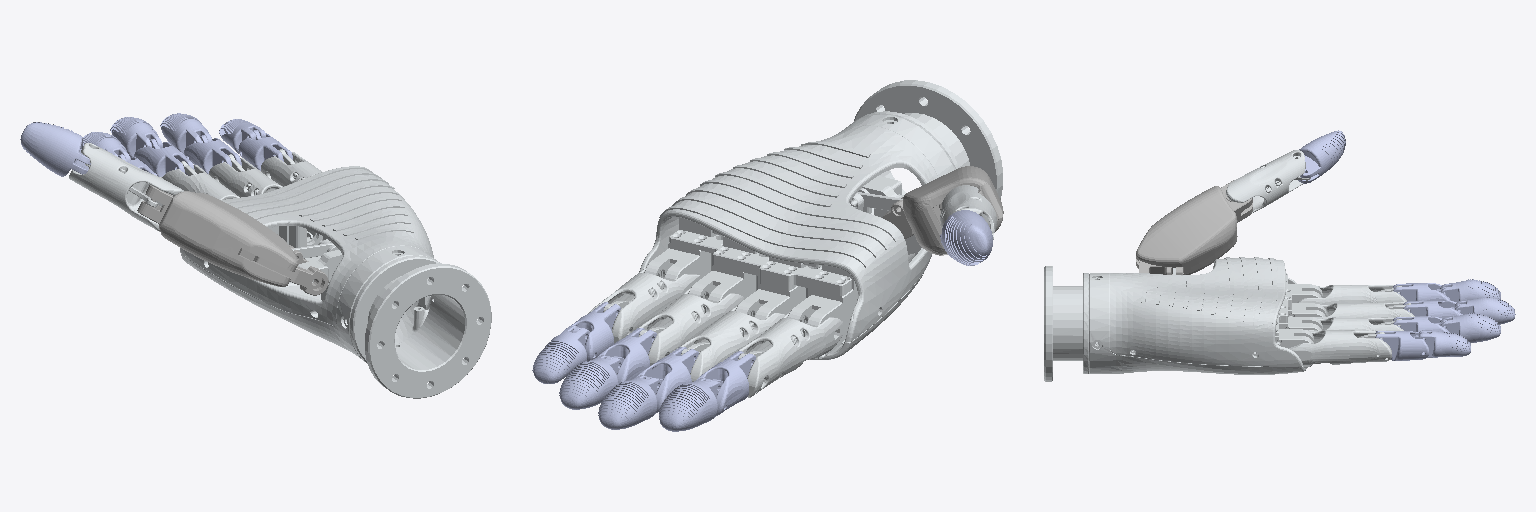
The robot description file, URDF, robot "lh_robothand_a0":
<?xml version="1.0" encoding="utf-8"?>
<!-- This URDF was automatically created by SolidWorks to URDF Exporter! Originally created by Stephen Brawner (brawner@gmail.com) 
     Commit Version: 1.6.0-4-g7f85cfe  Build Version: 1.6.7995.38578
     For more information, please see http://wiki.ros.org/sw_urdf_exporter -->
<robot
  name="lh_robothand_a0">
  <link
    name="lh_base_link">
    <inertial>
      <origin
        xyz="-0.0005326423495375 0.0772717786864033 -0.000898966132266925"
        rpy="0 0 0" />
      <mass
        value="0.262848373649471" />
      <inertia
        ixx="0.000130459702267955"
        ixy="4.38658283159813E-06"
        ixz="-6.62905537360346E-07"
        iyy="9.65532912794237E-05"
        iyz="2.75033765803907E-06"
        izz="0.000185448616754051" />
    </inertial>
    <visual>
      <origin
        xyz="0 0 0"
        rpy="0 0 0" />
      <geometry>
        <mesh
          filename="package://lh_robothand_a0_description/meshes/base_link.STL" />
      </geometry>
      <material
        name="">
        <color
          rgba="0.898039215686275 0.917647058823529 0.929411764705882 1" />
      </material>
    </visual>
    <collision>
      <origin
        xyz="0 0 0"
        rpy="0 0 0" />
      <geometry>
        <mesh
          filename="package://lh_robothand_a0_description/meshes/base_link.STL" />
      </geometry>
    </collision>
  </link>
  <link
    name="lh_LF1_Link">
    <inertial>
      <origin
        xyz="-0.000755891931996811 0.0242568044237363 0.00149883945650025"
        rpy="0 0 0" />
      <mass
        value="0.0074874409052179" />
      <inertia
        ixx="1.35659212400427E-06"
        ixy="-4.65212839765399E-10"
        ixz="7.38171085887314E-11"
        iyy="1.60505163680432E-07"
        iyz="-1.16129213018786E-08"
        izz="1.26083289748393E-06" />
    </inertial>
    <visual>
      <origin
        xyz="0 0 0"
        rpy="0 0 0" />
      <geometry>
        <mesh
          filename="package://lh_robothand_a0_description/meshes/LF1_Link.STL" />
      </geometry>
      <material
        name="">
        <color
          rgba="0.898039215686275 0.917647058823529 0.929411764705882 1" />
      </material>
    </visual>
    <collision>
      <origin
        xyz="0 0 0"
        rpy="0 0 0" />
      <geometry>
        <mesh
          filename="package://lh_robothand_a0_description/meshes/LF1_Link.STL" />
      </geometry>
    </collision>
  </link>
  <joint
    name="lh_LF1"
    type="revolute">
    <origin
      xyz="0.02722 0.12067 -0.0012197"
      rpy="0 0 0" />
    <parent
      link="lh_base_link" />
    <child
      link="lh_LF1_Link" />
    <axis
      xyz="-1 0 0" />
    <limit
      lower="-1.57"
      upper="0"
      effort="1"
      velocity="-0.5" />
    <dynamics
      damping="0.1"
      friction="0.1" />
    <mimic
      joint="lh_LF2"
      multiplier="1.8"
      offset="0" />
  </joint>
  <link
    name="lh_LF2_Link">
    <inertial>
      <origin
        xyz="-0.000844515150359219 0.0117739441187939 0.0022679198803186"
        rpy="0 0 0" />
      <mass
        value="0.0020406717952195" />
      <inertia
        ixx="1.17780368975088E-07"
        ixy="-1.62568514619483E-10"
        ixz="-6.56414673959214E-12"
        iyy="5.24770124374262E-08"
        iyz="-1.50021567083424E-09"
        izz="1.21248902970585E-07" />
    </inertial>
    <visual>
      <origin
        xyz="0 0 0"
        rpy="0 0 0" />
      <geometry>
        <mesh
          filename="package://lh_robothand_a0_description/meshes/LF2_Link.STL" />
      </geometry>
      <material
        name="">
        <color
          rgba="0.796078431372549 0.823529411764706 0.937254901960784 1" />
      </material>
    </visual>
    <collision>
      <origin
        xyz="0 0 0"
        rpy="0 0 0" />
      <geometry>
        <mesh
          filename="package://lh_robothand_a0_description/meshes/LF2_Link.STL" />
      </geometry>
    </collision>
  </link>
  <joint
    name="lh_LF2"
    type="revolute">
    <origin
      xyz="0 0.040097 -0.00037218"
      rpy="0 0 0" />
    <parent
      link="lh_LF1_Link" />
    <child
      link="lh_LF2_Link" />
    <axis
      xyz="-1 0 0" />
    <limit
      lower="-1.57"
      upper="0"
      effort="1"
      velocity="-0.5" />
    <dynamics
      damping="0.1"
      friction="0.1" />
    <mimic
      joint="lh_LF3"
      multiplier="1.8"
      offset="0" />
  </joint>
  <link
    name="lh_LF3_Link">
    <inertial>
      <origin
        xyz="-0.000895410151615577 0.0102874431755886 0.00155427545488495"
        rpy="0 0 0" />
      <mass
        value="0.0024374814930342" />
      <inertia
        ixx="7.38921004801917E-08"
        ixy="1.49725783063222E-10"
        ixz="-4.15130471258454E-11"
        iyy="4.10621116300406E-08"
        iyz="1.55102171166972E-08"
        izz="7.50783856519446E-08" />
    </inertial>
    <visual>
      <origin
        xyz="0 0 0"
        rpy="0 0 0" />
      <geometry>
        <mesh
          filename="package://lh_robothand_a0_description/meshes/LF3_Link.STL" />
      </geometry>
      <material
        name="">
        <color
          rgba="0.796078431372549 0.823529411764706 0.937254901960784 1" />
      </material>
    </visual>
    <collision>
      <origin
        xyz="0 0 0"
        rpy="0 0 0" />
      <geometry>
        <mesh
          filename="package://lh_robothand_a0_description/meshes/LF3_Link.STL" />
      </geometry>
    </collision>
  </link>
  <joint
    name="lh_LF3"
    type="revolute">
    <origin
      xyz="0 0.02198 0.00094344"
      rpy="0 0 0" />
    <parent
      link="lh_LF2_Link" />
    <child
      link="lh_LF3_Link" />
    <axis
      xyz="-1 0 0" />
    <limit
      lower="-1"
      upper="0"
      effort="1"
      velocity="-0.5" />
    <dynamics
      damping="0.1"
      friction="0.1" />
  </joint>
  <link
    name="lh_RF1_Link">
    <inertial>
      <origin
        xyz="-0.00104069618489598 0.0261110997390666 0.00194999113122413"
        rpy="0 0 0" />
      <mass
        value="0.0083300368382922" />
      <inertia
        ixx="1.86735417982367E-06"
        ixy="-8.99284385104697E-10"
        ixz="8.91971575249666E-11"
        iyy="1.62745378640412E-07"
        iyz="-1.94691117945355E-08"
        izz="1.77324944931858E-06" />
    </inertial>
    <visual>
      <origin
        xyz="0 0 0"
        rpy="0 0 0" />
      <geometry>
        <mesh
          filename="package://lh_robothand_a0_description/meshes/RF1_Link.STL" />
      </geometry>
      <material
        name="">
        <color
          rgba="0.898039215686275 0.917647058823529 0.929411764705882 1" />
      </material>
    </visual>
    <collision>
      <origin
        xyz="0 0 0"
        rpy="0 0 0" />
      <geometry>
        <mesh
          filename="package://lh_robothand_a0_description/meshes/RF1_Link.STL" />
      </geometry>
    </collision>
  </link>
  <joint
    name="lh_RF1"
    type="revolute">
    <origin
      xyz="0.0090199 0.12467 -0.0032197"
      rpy="0 0 0" />
    <parent
      link="lh_base_link" />
    <child
      link="lh_RF1_Link" />
    <axis
      xyz="-1 0 0" />
    <limit
      lower="-1.57"
      upper="0"
      effort="1"
      velocity="-0.5" />
    <dynamics
      damping="0.1"
      friction="0.1" />
    <mimic
      joint="lh_RF2"
      multiplier="1.8"
      offset="0" />
  </joint>
  <link
    name="lh_RF2_Link">
    <inertial>
      <origin
        xyz="-0.00119704829718612 0.0126321497239338 0.00261158687244465"
        rpy="0 0 0" />
      <mass
        value="0.00216268864685091" />
      <inertia
        ixx="1.41711926150424E-07"
        ixy="-1.51182028249349E-10"
        ixz="1.16937908138144E-11"
        iyy="5.52598873102467E-08"
        iyz="-1.51138258504334E-09"
        izz="1.46910093656898E-07" />
    </inertial>
    <visual>
      <origin
        xyz="0 0 0"
        rpy="0 0 0" />
      <geometry>
        <mesh
          filename="package://lh_robothand_a0_description/meshes/RF2_Link.STL" />
      </geometry>
      <material
        name="">
        <color
          rgba="0.796078431372549 0.823529411764706 0.937254901960784 1" />
      </material>
    </visual>
    <collision>
      <origin
        xyz="0 0 0"
        rpy="0 0 0" />
      <geometry>
        <mesh
          filename="package://lh_robothand_a0_description/meshes/RF2_Link.STL" />
      </geometry>
    </collision>
  </link>
  <joint
    name="lh_RF2"
    type="revolute">
    <origin
      xyz="0.0002 0.0445 0.00020578"
      rpy="0 0 0" />
    <parent
      link="lh_RF1_Link" />
    <child
      link="lh_RF2_Link" />
    <axis
      xyz="-1 0 0" />
    <limit
      lower="-1.57"
      upper="0"
      effort="1"
      velocity="-0.5" />
    <dynamics
      damping="0.1"
      friction="0.1" />
    <mimic
      joint="lh_RF3"
      multiplier="1.8"
      offset="0" />
  </joint>
  <link
    name="lh_RF3_Link">
    <inertial>
      <origin
        xyz="-0.00119370596150321 0.0122054724231012 0.00355817968514922"
        rpy="0 0 0" />
      <mass
        value="0.00336561552955153" />
      <inertia
        ixx="1.25559248030388E-07"
        ixy="5.22357622270556E-11"
        ixz="-2.92570308975789E-11"
        iyy="6.16777154701083E-08"
        iyz="1.74296137561546E-08"
        izz="1.34405881345937E-07" />
    </inertial>
    <visual>
      <origin
        xyz="0 0 0"
        rpy="0 0 0" />
      <geometry>
        <mesh
          filename="package://lh_robothand_a0_description/meshes/RF3_Link.STL" />
      </geometry>
      <material
        name="">
        <color
          rgba="0.796078431372549 0.823529411764706 0.937254901960784 1" />
      </material>
    </visual>
    <collision>
      <origin
        xyz="0 0 0"
        rpy="0 0 0" />
      <geometry>
        <mesh
          filename="package://lh_robothand_a0_description/meshes/RF3_Link.STL" />
      </geometry>
    </collision>
  </link>
  <joint
    name="lh_RF3"
    type="revolute">
    <origin
      xyz="0 0.024497 0.00039909"
      rpy="0 0 0" />
    <parent
      link="lh_RF2_Link" />
    <child
      link="lh_RF3_Link" />
    <axis
      xyz="-1 0 0" />
    <limit
      lower="-1"
      upper="0"
      effort="1"
      velocity="-0.5" />
    <dynamics
      damping="0.1"
      friction="0.1" />
  </joint>
  <link
    name="lh_MF1_Link">
    <inertial>
      <origin
        xyz="-0.00103409605479259 0.0276393847117343 0.00252652933854141"
        rpy="0 0 0" />
      <mass
        value="0.0097069421206806" />
      <inertia
        ixx="2.35328907941077E-06"
        ixy="-1.1153108835082E-09"
        ixz="-5.24844132673409E-11"
        iyy="2.03043476464388E-07"
        iyz="-6.87987313977919E-08"
        izz="2.23086466393879E-06" />
    </inertial>
    <visual>
      <origin
        xyz="0 0 0"
        rpy="0 0 0" />
      <geometry>
        <mesh
          filename="package://lh_robothand_a0_description/meshes/MF1_Link.STL" />
      </geometry>
      <material
        name="">
        <color
          rgba="0.898039215686275 0.917647058823529 0.929411764705882 1" />
      </material>
    </visual>
    <collision>
      <origin
        xyz="0 0 0"
        rpy="0 0 0" />
      <geometry>
        <mesh
          filename="package://lh_robothand_a0_description/meshes/MF1_Link.STL" />
      </geometry>
    </collision>
  </link>
  <joint
    name="lh_MF1"
    type="revolute">
    <origin
      xyz="-0.0094801 0.12667 -0.0047197"
      rpy="0 0 0" />
    <parent
      link="lh_base_link" />
    <child
      link="lh_MF1_Link" />
    <axis
      xyz="-1 0 0" />
    <limit
      lower="-1.57"
      upper="0"
      effort="1"
      velocity="-0.5" />
    <dynamics
      damping="0.1"
      friction="0.1" />
    <mimic
      joint="lh_MF2"
      multiplier="1.8"
      offset="0" />
  </joint>
  <link
    name="lh_MF2_Link">
    <inertial>
      <origin
        xyz="-0.00103269636547934 0.013490144319442 0.0028976553081372"
        rpy="0 0 0" />
      <mass
        value="0.00228824509732534" />
      <inertia
        ixx="1.7050913980067E-07"
        ixy="-1.56264344067894E-10"
        ixz="-2.22921136326968E-11"
        iyy="5.95577145416408E-08"
        iyz="-4.42554833000743E-09"
        izz="1.78155599264701E-07" />
    </inertial>
    <visual>
      <origin
        xyz="0 0 0"
        rpy="0 0 0" />
      <geometry>
        <mesh
          filename="package://lh_robothand_a0_description/meshes/MF2_Link.STL" />
      </geometry>
      <material
        name="">
        <color
          rgba="0.796078431372549 0.823529411764706 0.937254901960784 1" />
      </material>
    </visual>
    <collision>
      <origin
        xyz="0 0 0"
        rpy="0 0 0" />
      <geometry>
        <mesh
          filename="package://lh_robothand_a0_description/meshes/MF2_Link.STL" />
      </geometry>
    </collision>
  </link>
  <joint
    name="lh_MF2"
    type="revolute">
    <origin
      xyz="0 0.047487 0.0011335"
      rpy="0 0 0" />
    <parent
      link="lh_MF1_Link" />
    <child
      link="lh_MF2_Link" />
    <axis
      xyz="-1 0 0" />
    <limit
      lower="-1.57"
      upper="0"
      effort="1"
      velocity="-0.5" />
    <dynamics
      damping="0.1"
      friction="0.1" />
    <mimic
      joint="lh_MF3"
      multiplier="1.8"
      offset="0" />
  </joint>
  <link
    name="lh_MF3_Link">
    <inertial>
      <origin
        xyz="-0.00109373548759277 0.0122123250633884 0.0035339262295747"
        rpy="0 0 0" />
      <mass
        value="0.00336556031844797" />
      <inertia
        ixx="1.25555487633584E-07"
        ixy="5.24058611297316E-11"
        ixz="-2.89495483920673E-11"
        iyy="6.17473787558547E-08"
        iyz="1.7573287946942E-08"
        izz="1.34335338467939E-07" />
    </inertial>
    <visual>
      <origin
        xyz="0 0 0"
        rpy="0 0 0" />
      <geometry>
        <mesh
          filename="package://lh_robothand_a0_description/meshes/MF3_Link.STL" />
      </geometry>
      <material
        name="">
        <color
          rgba="0.796078431372549 0.823529411764706 0.937254901960784 1" />
      </material>
    </visual>
    <collision>
      <origin
        xyz="0 0 0"
        rpy="0 0 0" />
      <geometry>
        <mesh
          filename="package://lh_robothand_a0_description/meshes/MF3_Link.STL" />
      </geometry>
    </collision>
  </link>
  <joint
    name="lh_MF3"
    type="revolute">
    <origin
      xyz="0 0.026482 0.00098138"
      rpy="0 0 0" />
    <parent
      link="lh_MF2_Link" />
    <child
      link="lh_MF3_Link" />
    <axis
      xyz="-1 0 0" />
    <limit
      lower="-1"
      upper="0"
      effort="1"
      velocity="-0.5" />
    <dynamics
      damping="0.1"
      friction="0.1" />
  </joint>
  <link
    name="lh_FF1_Link">
    <inertial>
      <origin
        xyz="-0.00104070068063387 0.0260984041341586 0.00208802564535935"
        rpy="0 0 0" />
      <mass
        value="0.00833003074086424" />
      <inertia
        ixx="1.86735423879991E-06"
        ixy="-8.99750519087512E-10"
        ixz="8.43248988996383E-11"
        iyy="1.63055145455469E-07"
        iyz="-2.8096330181437E-08"
        izz="1.77293980832037E-06" />
    </inertial>
    <visual>
      <origin
        xyz="0 0 0"
        rpy="0 0 0" />
      <geometry>
        <mesh
          filename="package://lh_robothand_a0_description/meshes/FF1_Link.STL" />
      </geometry>
      <material
        name="">
        <color
          rgba="0.898039215686275 0.917647058823529 0.929411764705882 1" />
      </material>
    </visual>
    <collision>
      <origin
        xyz="0 0 0"
        rpy="0 0 0" />
      <geometry>
        <mesh
          filename="package://lh_robothand_a0_description/meshes/FF1_Link.STL" />
      </geometry>
    </collision>
  </link>
  <joint
    name="lh_FF1"
    type="revolute">
    <origin
      xyz="-0.02808 0.12467 -0.0032197"
      rpy="0 0 0" />
    <parent
      link="lh_base_link" />
    <child
      link="lh_FF1_Link" />
    <axis
      xyz="-1 0 0" />
    <limit
      lower="-1.57"
      upper="0"
      effort="1"
      velocity="-0.5" />
    <dynamics
      damping="0.1"
      friction="0.1" />
    <mimic
      joint="lh_FF2"
      multiplier="1.8"
      offset="0" />
  </joint>
  <link
    name="lh_FF2_Link">
    <inertial>
      <origin
        xyz="-0.00119704889849115 0.0126024560602183 0.0027410938324317"
        rpy="0 0 0" />
      <mass
        value="0.00216268861976196" />
      <inertia
        ixx="1.41711912861347E-07"
        ixy="-1.51284528273074E-10"
        ixz="1.01075984664546E-11"
        iyy="5.53138478506454E-08"
        iyz="-2.47277102938112E-09"
        izz="1.46856120478191E-07" />
    </inertial>
    <visual>
      <origin
        xyz="0 0 0"
        rpy="0 0 0" />
      <geometry>
        <mesh
          filename="package://lh_robothand_a0_description/meshes/FF2_Link.STL" />
      </geometry>
      <material
        name="">
        <color
          rgba="0.796078431372549 0.823529411764706 0.937254901960784 1" />
      </material>
    </visual>
    <collision>
      <origin
        xyz="0 0 0"
        rpy="0 0 0" />
      <geometry>
        <mesh
          filename="package://lh_robothand_a0_description/meshes/FF2_Link.STL" />
      </geometry>
    </collision>
  </link>
  <joint
    name="lh_FF2"
    type="revolute">
    <origin
      xyz="0.0002 0.044498 0.00044206"
      rpy="0 0 0" />
    <parent
      link="lh_FF1_Link" />
    <child
      link="lh_FF2_Link" />
    <axis
      xyz="-1 0 0" />
    <limit
      lower="-1.57"
      upper="0"
      effort="1"
      velocity="-0.5" />
    <dynamics
      damping="0.1"
      friction="0.1" />
    <mimic
      joint="lh_FF3"
      multiplier="1.8"
      offset="0" />
  </joint>
  <link
    name="lh_FF3_Link">
    <inertial>
      <origin
        xyz="-0.00119677791994263 0.0121617673254443 0.00370928642272381"
        rpy="0 0 0" />
      <mass
        value="0.00337032712997865" />
      <inertia
        ixx="1.25145238174883E-07"
        ixy="4.33600409634468E-11"
        ixz="-5.31106934522797E-11"
        iyy="6.15688525220647E-08"
        iyz="1.6346381812885E-08"
        izz="1.35642578425083E-07" />
    </inertial>
    <visual>
      <origin
        xyz="0 0 0"
        rpy="0 0 0" />
      <geometry>
        <mesh
          filename="package://lh_robothand_a0_description/meshes/FF3_Link.STL" />
      </geometry>
      <material
        name="">
        <color
          rgba="0.796078431372549 0.823529411764706 0.937254901960784 1" />
      </material>
    </visual>
    <collision>
      <origin
        xyz="0 0 0"
        rpy="0 0 0" />
      <geometry>
        <mesh
          filename="package://lh_robothand_a0_description/meshes/FF3_Link.STL" />
      </geometry>
    </collision>
  </link>
  <joint
    name="lh_FF3"
    type="revolute">
    <origin
      xyz="0 0.024491 0.00065357"
      rpy="0 0 0" />
    <parent
      link="lh_FF2_Link" />
    <child
      link="lh_FF3_Link" />
    <axis
      xyz="-1 0 0" />
    <limit
      lower="-1"
      upper="0"
      effort="1"
      velocity="-0.5" />
    <dynamics
      damping="0.1"
      friction="0.1" />
  </joint>
  <link
    name="lh_TH1_Link">
    <inertial>
      <origin
        xyz="0.0126010834927772 0.0270415002472552 0.0157351570711252"
        rpy="0 0 0" />
      <mass
        value="0.0376965566076027" />
      <inertia
        ixx="2.99126716126074E-06"
        ixy="-6.52954680161949E-07"
        ixz="-4.43418989487351E-07"
        iyy="3.70766297941824E-06"
        iyz="-1.05012625203573E-06"
        izz="4.80087959123137E-06" />
    </inertial>
    <visual>
      <origin
        xyz="0 0 0"
        rpy="0 0 0" />
      <geometry>
        <mesh
          filename="package://lh_robothand_a0_description/meshes/TH1_Link.STL" />
      </geometry>
      <material
        name="">
        <color
          rgba="0.752941176470588 0.752941176470588 0.752941176470588 1" />
      </material>
    </visual>
    <collision>
      <origin
        xyz="0 0 0"
        rpy="0 0 0" />
      <geometry>
        <mesh
          filename="package://lh_robothand_a0_description/meshes/TH1_Link.STL" />
      </geometry>
    </collision>
  </link>
  <joint
    name="lh_TH1"
    type="revolute">
    <origin
      xyz="-0.024843 0.061673 0.0085578"
      rpy="0 0 1.5708" />
    <parent
      link="lh_base_link" />
    <child
      link="lh_TH1_Link" />
    <axis
      xyz="-1 0 0" />
    <limit
      lower="0"
      upper="1"
      effort="1"
      velocity="0.5" />
    <dynamics
      damping="0.1"
      friction="0.1" />
    <mimic
      joint="lh_TH2"
      multiplier="-1.8"
      offset="0" />
  </joint>
  <link
    name="lh_TH2_Link">
    <inertial>
      <origin
        xyz="-0.000751465383598712 0.0187130036119364 0.0118895562526252"
        rpy="0 0 0" />
      <mass
        value="0.00973663443524222" />
      <inertia
        ixx="1.44806919545669E-06"
        ixy="1.00623347985229E-09"
        ixz="1.07227762503879E-09"
        iyy="5.8335186003981E-07"
        iyz="-4.98758878518182E-07"
        izz="9.58749675239436E-07" />
    </inertial>
    <visual>
      <origin
        xyz="0 0 0"
        rpy="0 0 0" />
      <geometry>
        <mesh
          filename="package://lh_robothand_a0_description/meshes/TH2_Link.STL" />
      </geometry>
      <material
        name="">
        <color
          rgba="0.898039215686275 0.917647058823529 0.929411764705882 1" />
      </material>
    </visual>
    <collision>
      <origin
        xyz="0 0 0"
        rpy="0 0 0" />
      <geometry>
        <mesh
          filename="package://lh_robothand_a0_description/meshes/TH2_Link.STL" />
      </geometry>
    </collision>
  </link>
  <joint
    name="lh_TH2"
    type="revolute">
    <origin
      xyz="0.029023 0.041949 0.02497"
      rpy="0 -1.0472 -1.5708" />
    <parent
      link="lh_TH1_Link" />
    <child
      link="lh_TH2_Link" />
    <axis
      xyz="1 0 0" />
    <limit
      lower="-0.65"
      upper="0"
      effort="1"
      velocity="-0.5" />
    <dynamics
      damping="0.1"
      friction="0.1" />
    <mimic
      joint="lh_TH3"
      multiplier="1.8"
      offset="0" />
  </joint>
  <link
    name="lh_TH3_Link">
    <inertial>
      <origin
        xyz="-0.00084857 0.011553 0.005952"
        rpy="0 0 0" />
      <mass
        value="0.0049133" />
      <inertia
        ixx="2.112E-07"
        ixy="1.7884E-10"
        ixz="1.4276E-10"
        iyy="1.9961E-07"
        iyz="-4.4924E-08"
        izz="1.6068E-07" />
    </inertial>
    <visual>
      <origin
        xyz="0 0 0"
        rpy="0 0 0" />
      <geometry>
        <mesh
          filename="package://lh_robothand_a0_description/meshes/TH3_Link.STL" />
      </geometry>
      <material
        name="">
        <color
          rgba="0.79608 0.82353 0.93725 1" />
      </material>
    </visual>
    <collision>
      <origin
        xyz="0 0 0"
        rpy="0 0 0" />
      <geometry>
        <mesh
          filename="package://lh_robothand_a0_description/meshes/TH3_Link.STL" />
      </geometry>
    </collision>
  </link>
  <joint
    name="lh_TH3"
    type="revolute">
    <origin
      xyz="0 0.030805 0.02225"
      rpy="0 0 0" />
    <parent
      link="lh_TH2_Link" />
    <child
      link="lh_TH3_Link" />
    <axis
      xyz="1 0 0" />
    <limit
      lower="-0.79"
      upper="0"
      effort="1"
      velocity="0.5" />
    <dynamics
      damping="0.1"
      friction="0.1" />
  </joint>
</robot>

--- Facts derived from the render (not from the file) ---
3 views of the same robot in one strip: view 1: azimuth 30°, elevation 25°; view 2: azimuth 150°, elevation 25°; view 3: azimuth 270°, elevation 25° (orthographic).
Model lh_robothand_a0 with 16 links and 15 joints (15 revolute), rooted at lh_base_link, posed every joint at zero.
Visible links, largest first — view 1: lh_base_link, lh_TH1_Link, lh_TH2_Link, lh_TH3_Link, lh_RF1_Link, lh_MF1_Link, lh_LF1_Link, lh_RF3_Link, lh_MF3_Link, lh_MF2_Link, lh_RF2_Link, lh_LF2_Link (+2 smaller); view 2: lh_base_link, lh_FF1_Link, lh_TH1_Link, lh_RF1_Link, lh_LF1_Link, lh_MF1_Link, lh_MF3_Link, lh_FF3_Link, lh_RF3_Link, lh_TH3_Link, lh_LF3_Link, lh_FF2_Link (+4 smaller); view 3: lh_base_link, lh_TH1_Link, lh_LF1_Link, lh_TH2_Link, lh_FF1_Link, lh_TH3_Link, lh_MF1_Link, lh_RF3_Link, lh_LF2_Link, lh_LF3_Link, lh_MF3_Link, lh_RF1_Link (+4 smaller).
Link boxes in pixels (x1,y1,x2,y2): lh_base_link: (180,166,491,398); lh_TH1_Link: (137,185,328,295); lh_TH2_Link: (69,143,183,231); lh_TH3_Link: (20,122,90,176); lh_RF1_Link: (209,154,282,197); lh_MF1_Link: (162,161,239,199); lh_LF1_Link: (261,149,321,186); lh_RF3_Link: (160,113,212,153); lh_MF3_Link: (110,117,162,157); lh_MF2_Link: (134,139,194,176); lh_RF2_Link: (184,135,241,173); lh_LF2_Link: (238,130,292,170); lh_base_link: (639,80,1002,359); lh_FF1_Link: (732,311,842,397); lh_TH1_Link: (882,166,1003,255); lh_RF1_Link: (631,288,743,365); lh_LF1_Link: (588,268,699,342); lh_MF1_Link: (674,305,784,381); lh_MF3_Link: (598,375,660,429); lh_FF3_Link: (659,378,721,431); lh_RF3_Link: (559,355,621,409); lh_TH3_Link: (940,210,992,265); lh_LF3_Link: (532,326,589,383); lh_FF2_Link: (697,351,755,415); lh_base_link: (1044,257,1326,381); lh_TH1_Link: (1136,180,1252,274); lh_LF1_Link: (1289,330,1391,364); lh_TH2_Link: (1226,150,1310,212); lh_FF1_Link: (1297,285,1406,304); lh_TH3_Link: (1298,130,1345,183); lh_MF1_Link: (1314,302,1414,318); lh_RF3_Link: (1440,313,1500,342); lh_LF2_Link: (1375,331,1428,360); lh_LF3_Link: (1419,330,1470,357); lh_MF3_Link: (1455,297,1515,324); lh_RF1_Link: (1308,317,1403,331).
Bounding box of the posed robot: 0.1425 × 0.2269 × 0.0848 m (x, y, z).
Meshes: 16 distinct files referenced, 16 mesh visuals loaded (16 binary STL).
